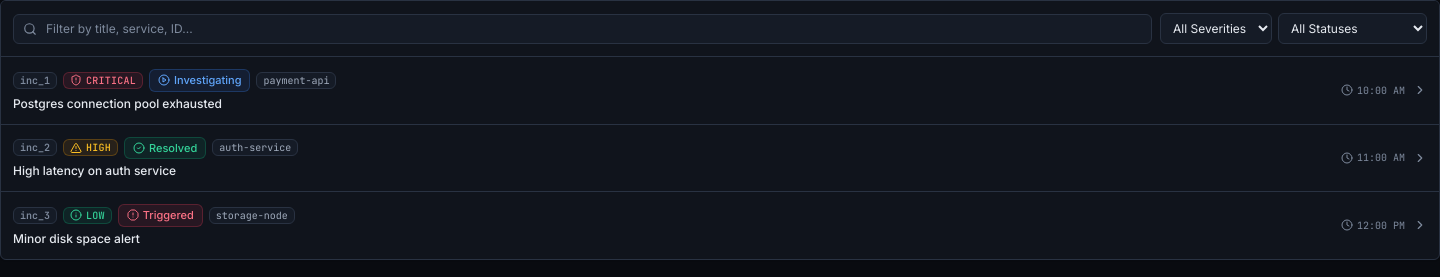
Test: IncidentList › filters incidents by severity dropdown
Step 1. Select "Critical" in the dropdown with test id "filter-severity-select" → {"x": 1216, "y": 28}, box x1=1160 y1=13 x2=1272 y2=44
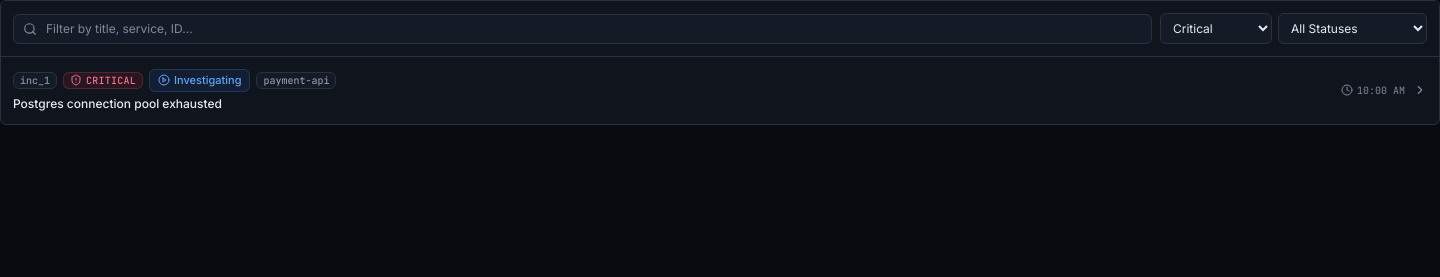
Check: the heading "Postgres connection pool exhausted" is shown, box x1=13 y1=96 x2=222 y2=110
Check: the heading "High latency on auth service" is gone
Check: the heading "Minor disk space alert" is gone
